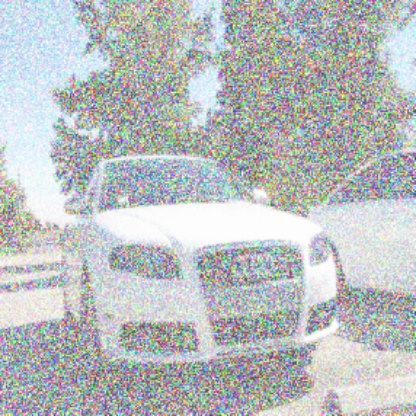Vehicle: (62, 157, 342, 380)
